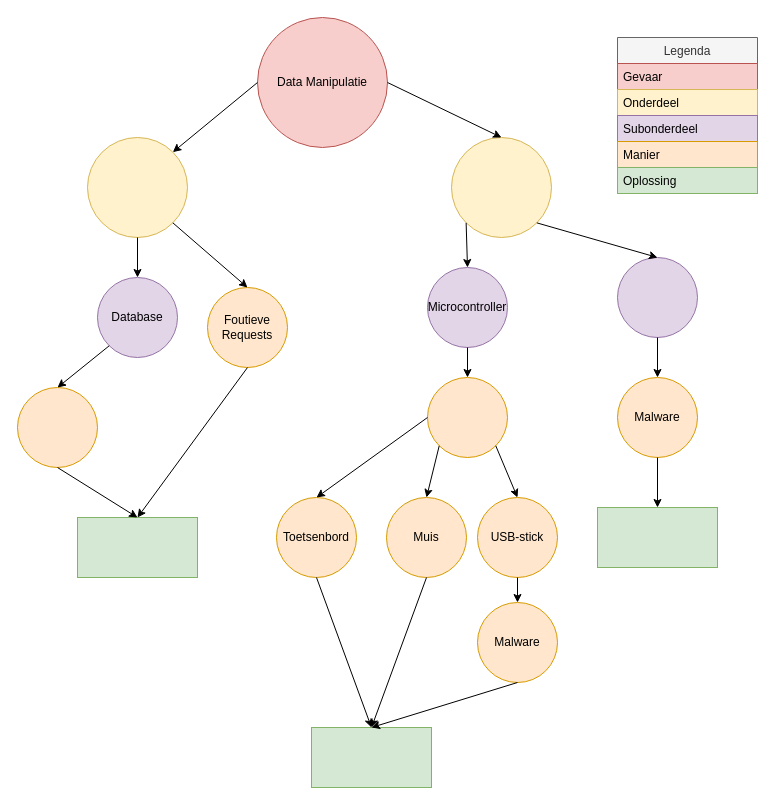
This 775x805 diagram has some shape labels left out. Here are the shapes that lost their labels. From the top down, the centre of each, then its label:
At (x=137, y=187): "Server".
At (x=501, y=187): "Registratiepaal".
At (x=657, y=297): "QR- of BAR-code".
At (x=57, y=427): "SQL-Injection".
At (x=467, y=417): "Externe apparaten aansluiten".
At (x=137, y=547): "De API negeert ongewenste data".
At (x=657, y=537): "De data vanaf de scanner word gesaniteerd".
At (x=371, y=757): "De Registratiepaal is volledig afgesloten".
